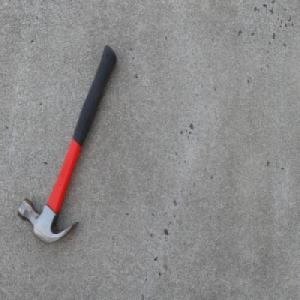Hammer: (17, 43, 117, 245)
